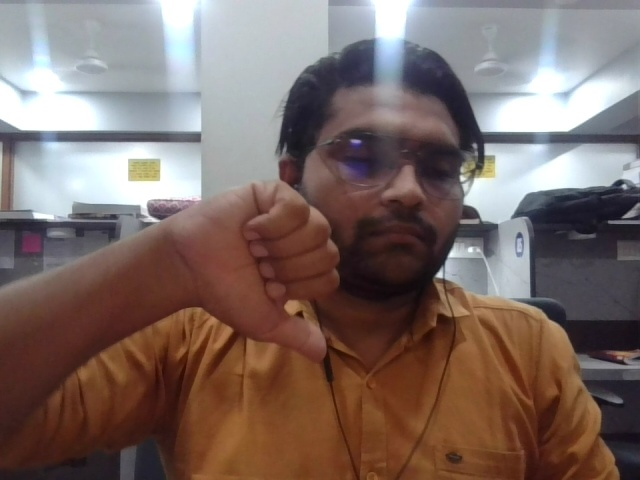ThumbsDown: (178, 177, 340, 367)
